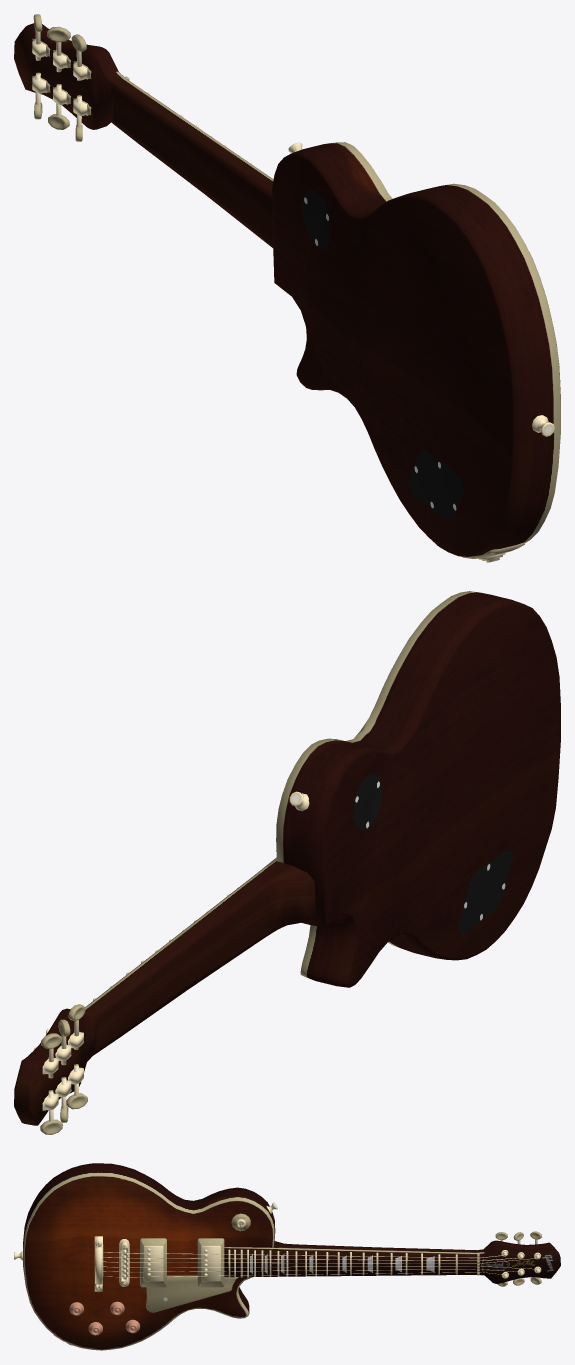
3 views of the same model, one above another, from view 1: azimuth 30°, elevation 25°; view 2: azimuth 150°, elevation 25°; view 3: azimuth 270°, elevation 25° (orthographic). The views are drawn at different scales.
Parts seen in each view (by area): view 1: Gitarre higher test15_01 - Default_0, Gitarre higher test12, Gitarre higher test11_01 - Default_0, Gitarre higher test02; view 2: Gitarre higher test15_01 - Default_0, Gitarre higher test12, Gitarre higher test11_01 - Default_0, Gitarre higher test02; view 3: Gitarre higher test15_01 - Default_0, Gitarre higher test12, Gitarre higher test04_01 - Default_0, Gitarre higher test22, Gitarre higher test16, Gitarre higher test05_01 - Default_0, Gitarre higher test25_01 - Default_0, Gitarre higher test07, Gitarre higher test03_01 - Default_0, Gitarre higher test11_01 - Default_0, Gitarre higher test24_01 - Default_0, Gitarre higher test06.
Part boxes in pixels (<box>): Gitarre higher test15_01 - Default_0: <box>272,142,560,556</box>; Gitarre higher test12: <box>14,23,273,247</box>; Gitarre higher test11_01 - Default_0: <box>33,14,86,141</box>; Gitarre higher test02: <box>32,38,91,116</box>; Gitarre higher test15_01 - Default_0: <box>276,591,560,987</box>; Gitarre higher test12: <box>14,857,315,1125</box>; Gitarre higher test11_01 - Default_0: <box>40,1004,87,1134</box>; Gitarre higher test02: <box>42,1031,83,1110</box>; Gitarre higher test15_01 - Default_0: <box>23,1163,275,1350</box>; Gitarre higher test12: <box>224,1240,560,1283</box>; Gitarre higher test04_01 - Default_0: <box>140,1238,224,1287</box>; Gitarre higher test22: <box>103,1252,536,1277</box>; Gitarre higher test16: <box>146,1275,238,1312</box>; Gitarre higher test05_01 - Default_0: <box>228,1249,457,1277</box>; Gitarre higher test25_01 - Default_0: <box>250,1254,434,1274</box>; Gitarre higher test07: <box>69,1301,140,1335</box>; Gitarre higher test03_01 - Default_0: <box>94,1236,103,1291</box>; Gitarre higher test11_01 - Default_0: <box>495,1231,541,1286</box>; Gitarre higher test24_01 - Default_0: <box>119,1239,129,1286</box>; Gitarre higher test06: <box>231,1213,250,1231</box>.
Bounding box in the file's own units: 0.6811 × 3.35 × 9.36.
Materials: 1 (1 with a texture image).
